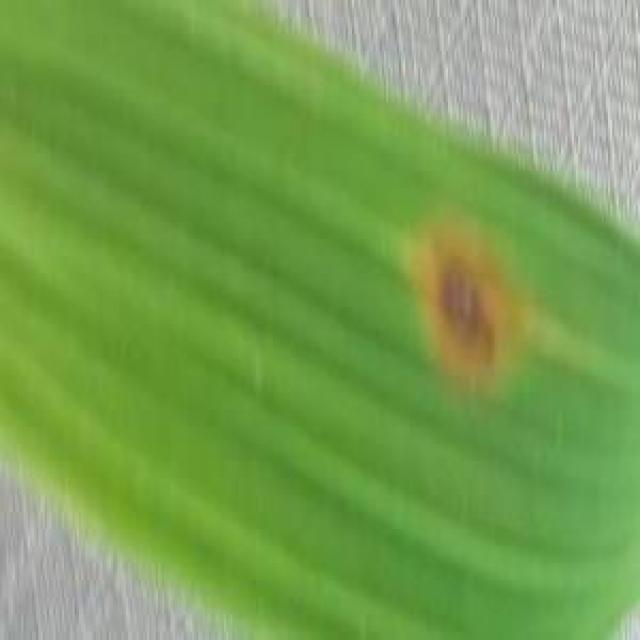brownspots: (414, 236, 520, 378)
